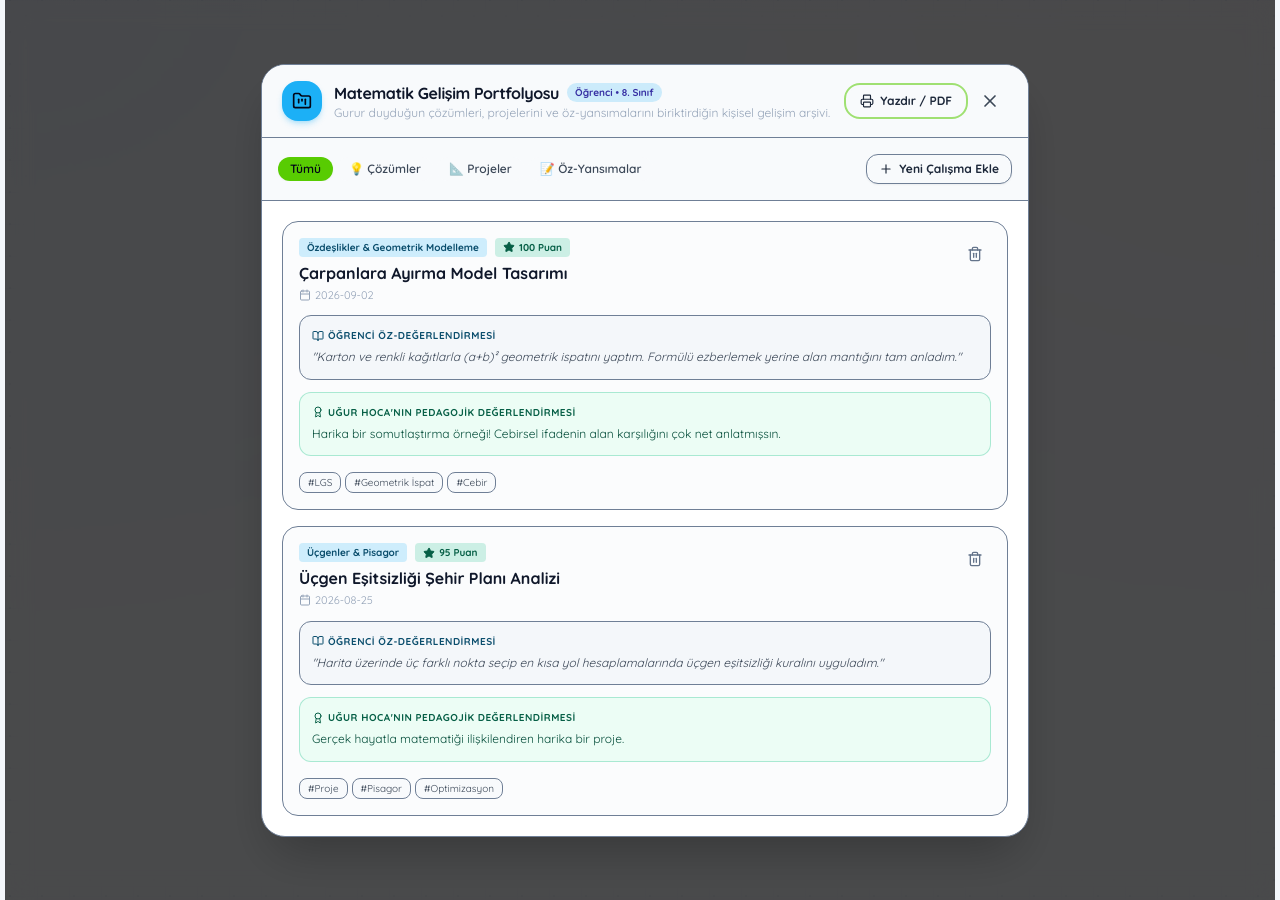
Test: StudentPortfolioModal Component › allows adding a new portfolio item and renders it
// Click toggle
Click the button "Yeni Çalışma Ekle" at coordinates (939, 168), box [866,154,1012,184]
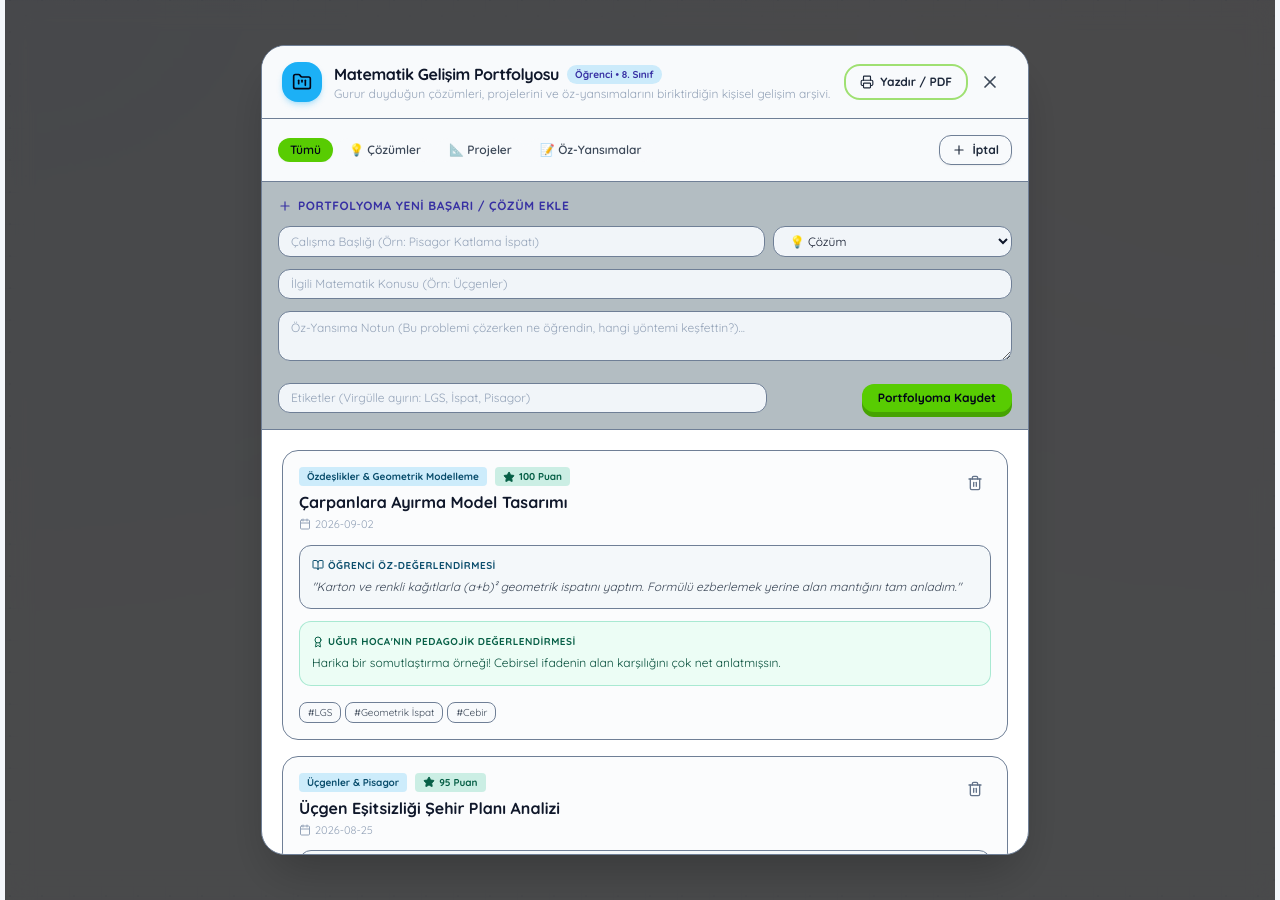
Type "Özdeşlik Kartı" into the field with placeholder "Çalışma Başlığı (Örn: Pisagor Katlama İspatı)" at coordinates (521, 242), box [278,226,765,257]
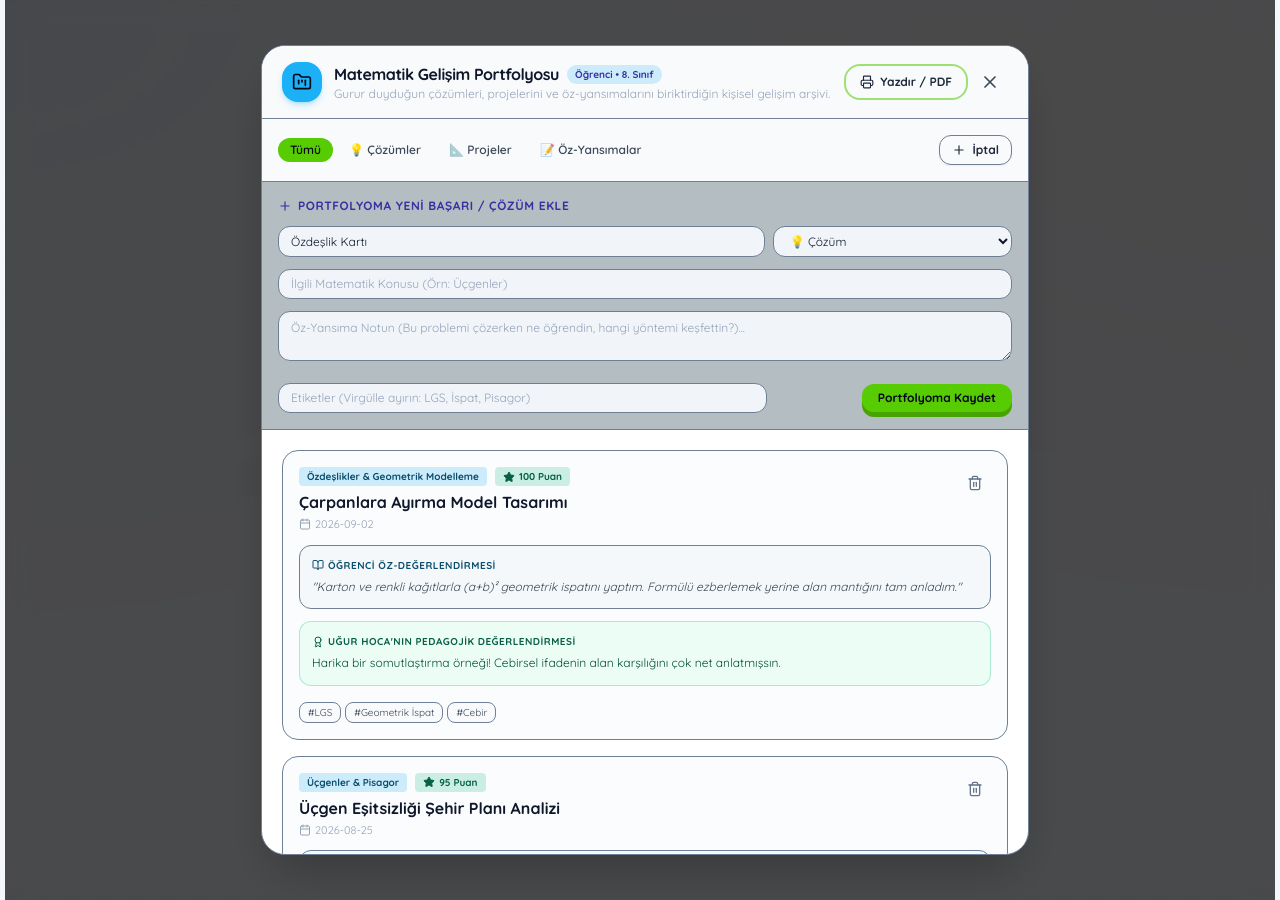
Replace the text in the text box with placeholder "Öz-Yansıma Notun" with "Formülleri kartlara çizerek çalıştım." at coordinates (645, 336), box [278,311,1012,361]
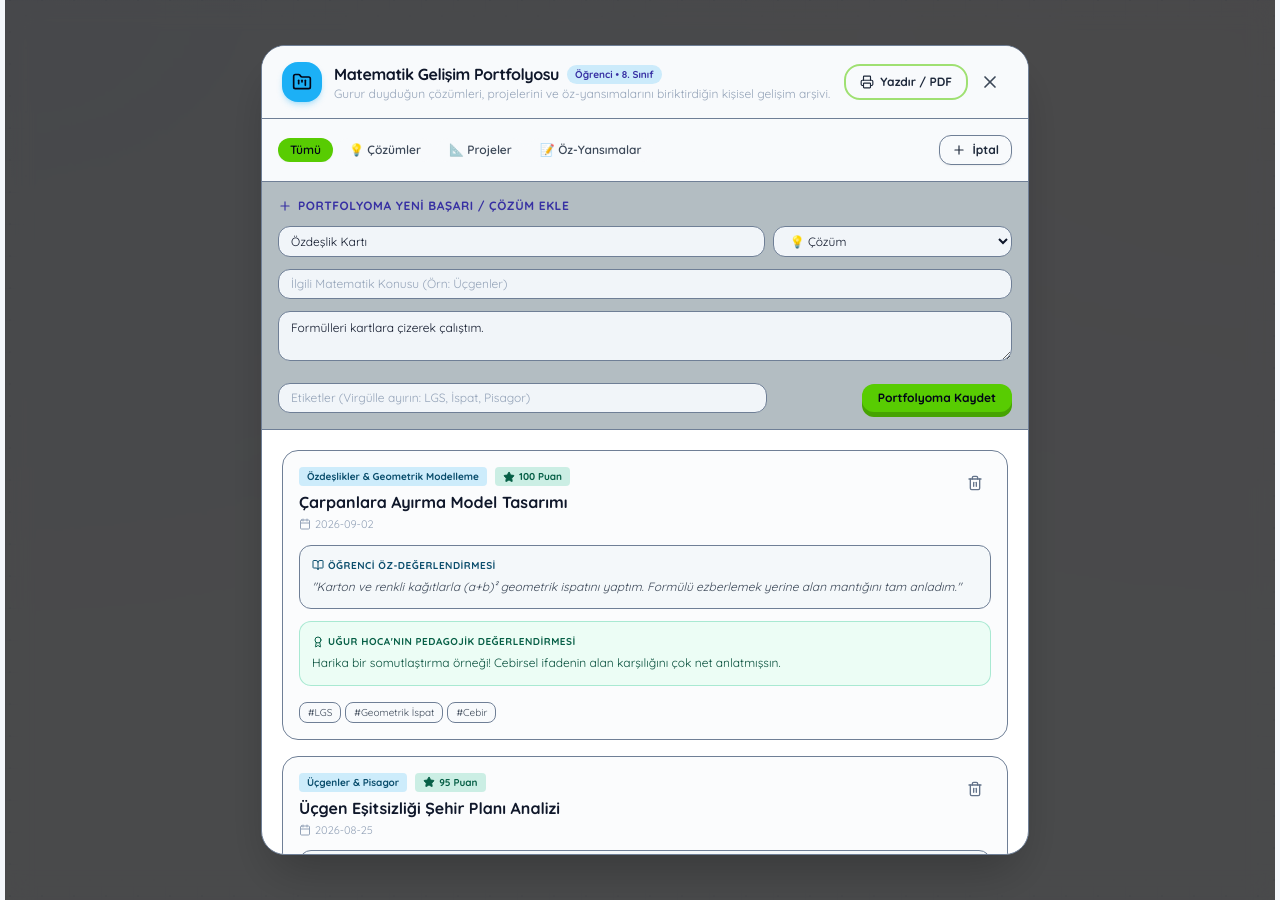
Click the button "Portfolyoma Kaydet" at coordinates (937, 398), box [862,384,1012,412]
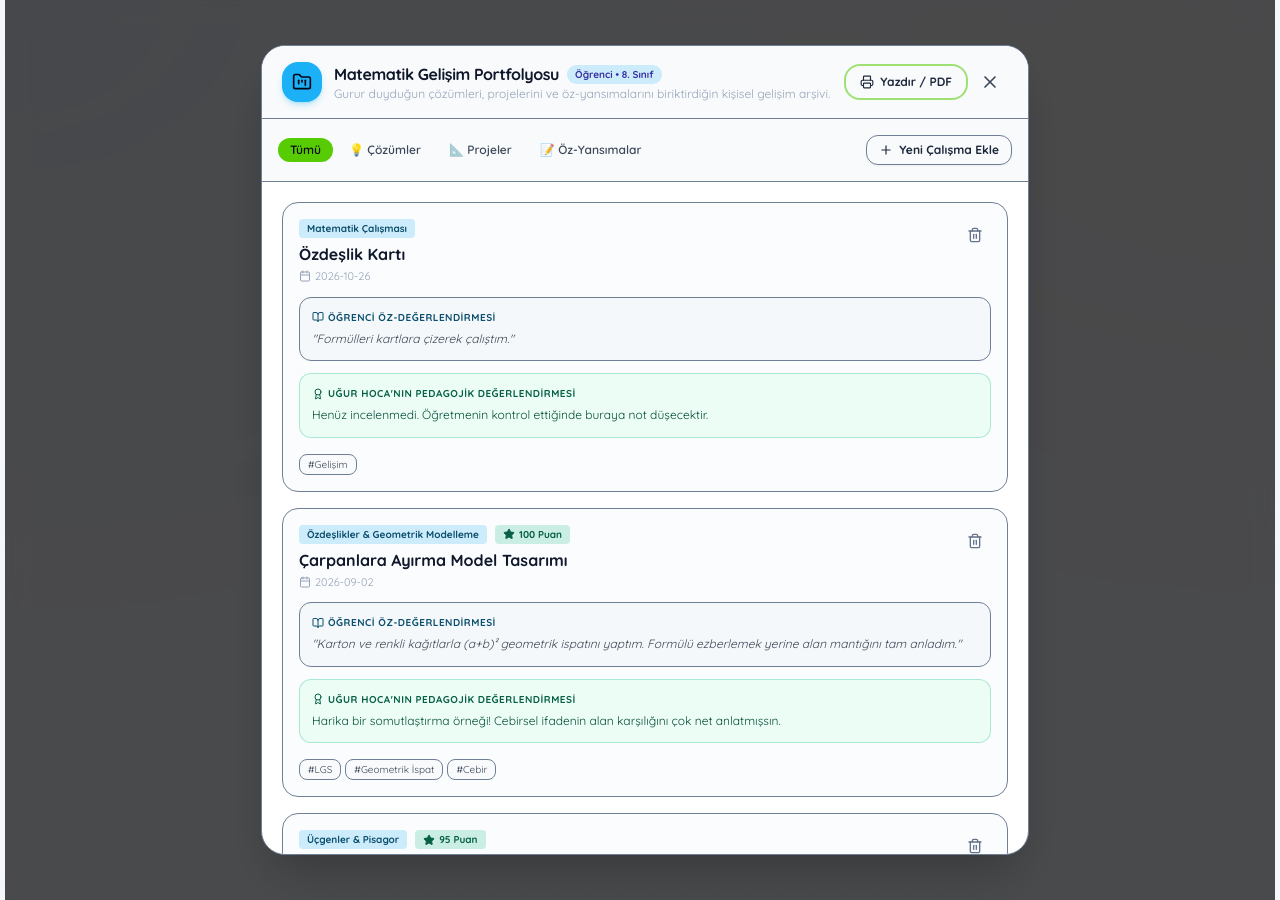
Check: the heading "Özdeşlik Kartı" is shown, box [299,242,415,266]
